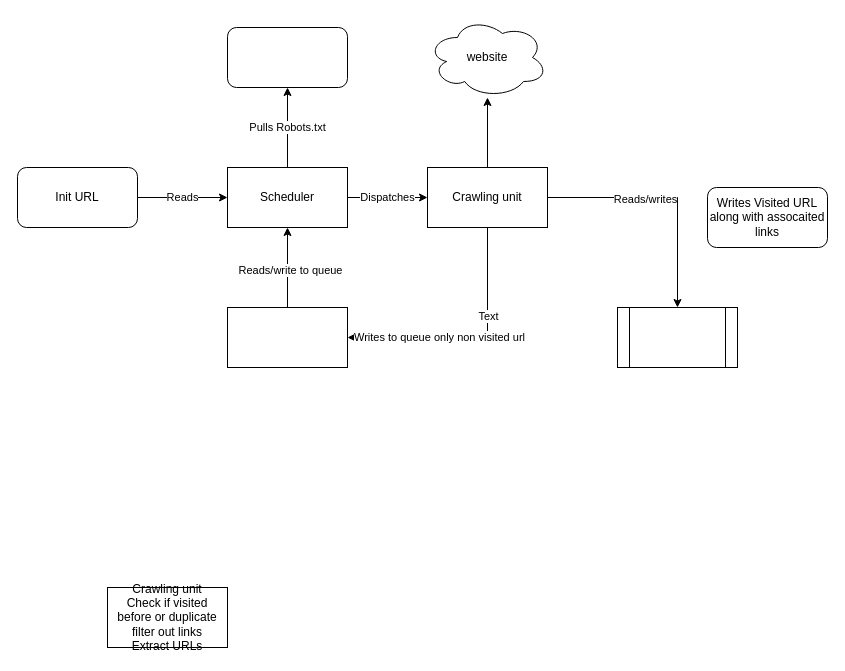
The diagram is 845 pixels wide and 671 high, and some of its shapes have lost their labels. The centre of each missing label's shape, as x and y in pixels:
Get robots.txt and parse config: pixel 287 57
Queue: pixel 287 337
URL Storage: pixel 677 337
